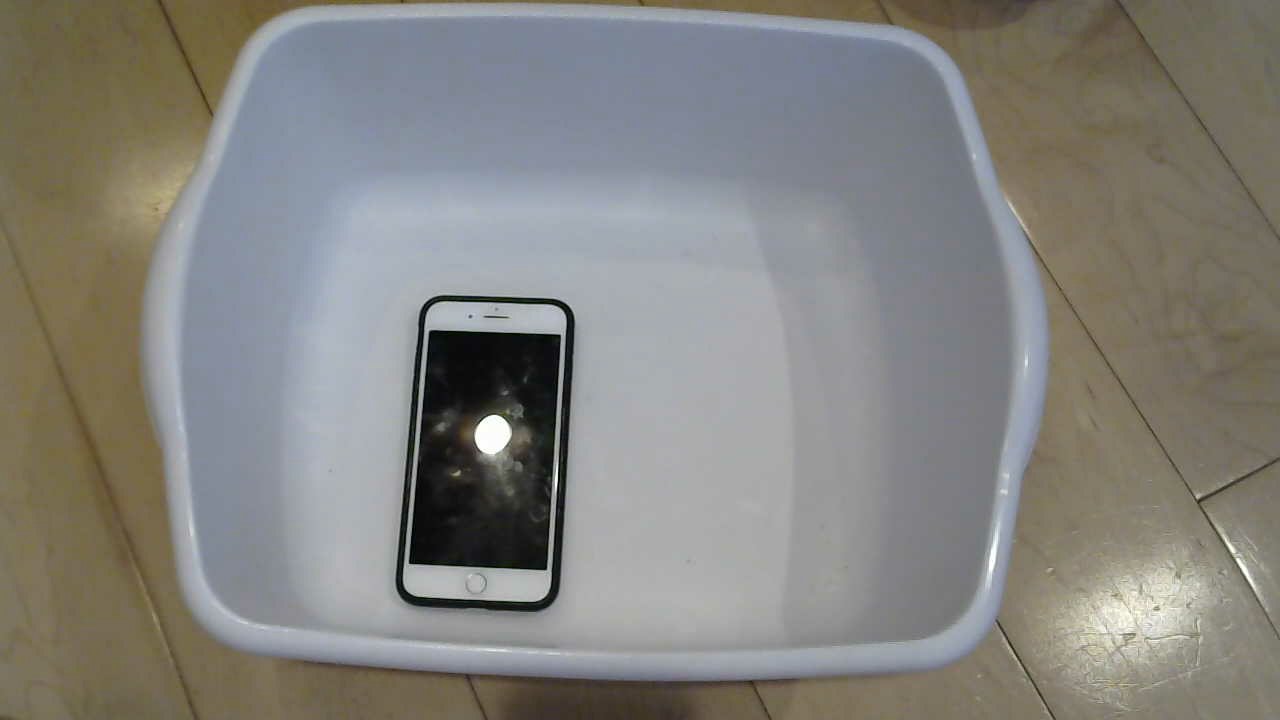phone: (399, 299, 584, 610)
